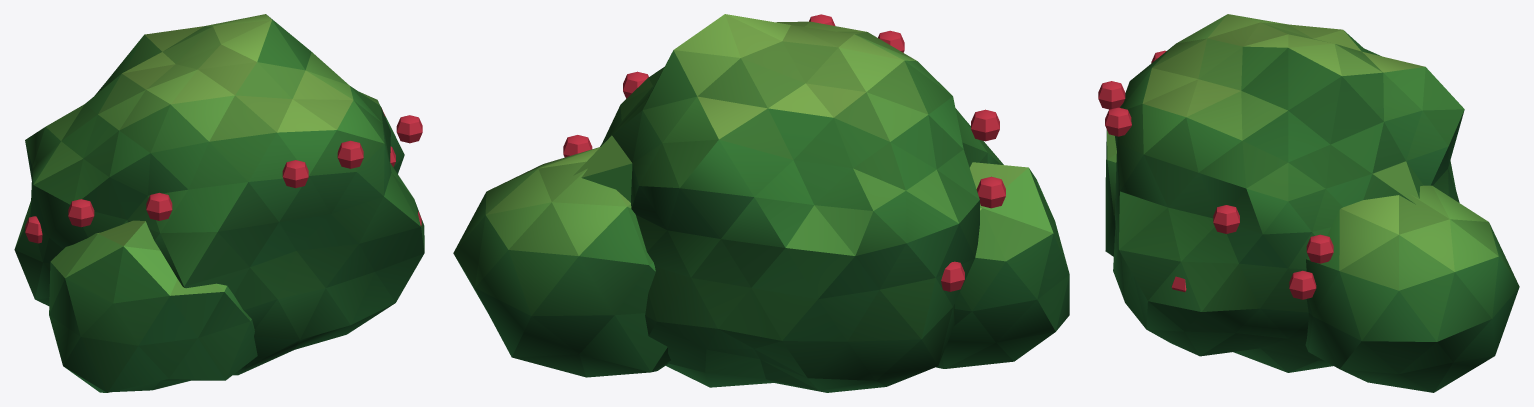
The model's file is BushA.fbx.
The picture shows the model from 3 angles, left to right: view 1: azimuth 30°, elevation 25°; view 2: azimuth 150°, elevation 25°; view 3: azimuth 270°, elevation 25°; orthographic projection. The views are drawn at different scales.
Parts seen in each view (by area): view 1: BushA; view 2: BushA; view 3: BushA.
Part boxes in pixels (x1,y1,x2,y2): BushA: (14, 14, 424, 392); BushA: (453, 14, 1069, 392); BushA: (1098, 14, 1519, 392).
Size of the model in its own units: 1.14 by 0.7694 by 0.9508.
